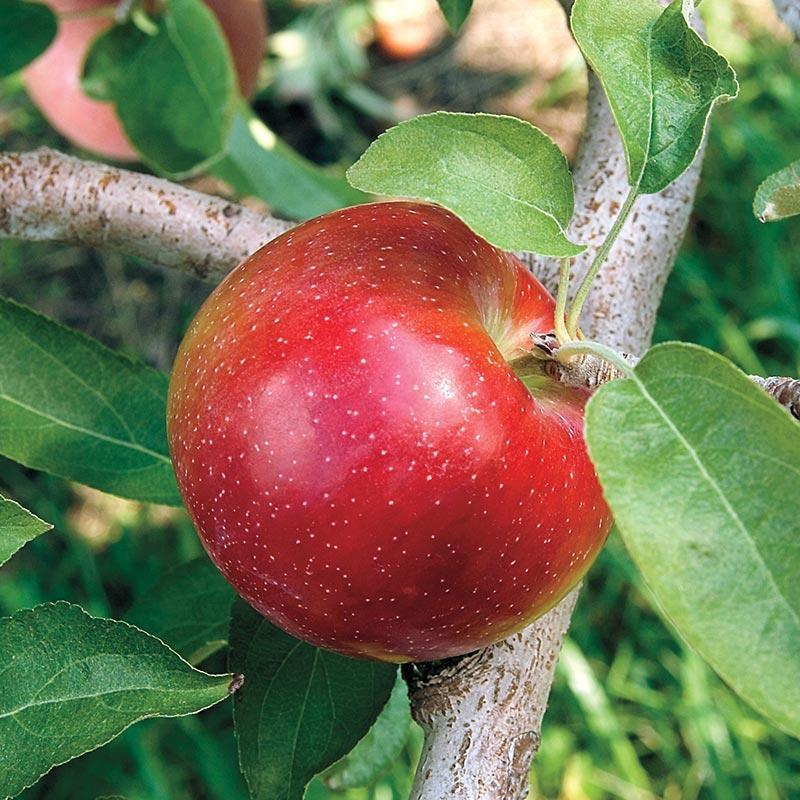apple: (169, 210, 631, 678)
